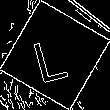L_N: (33, 27, 77, 83)
